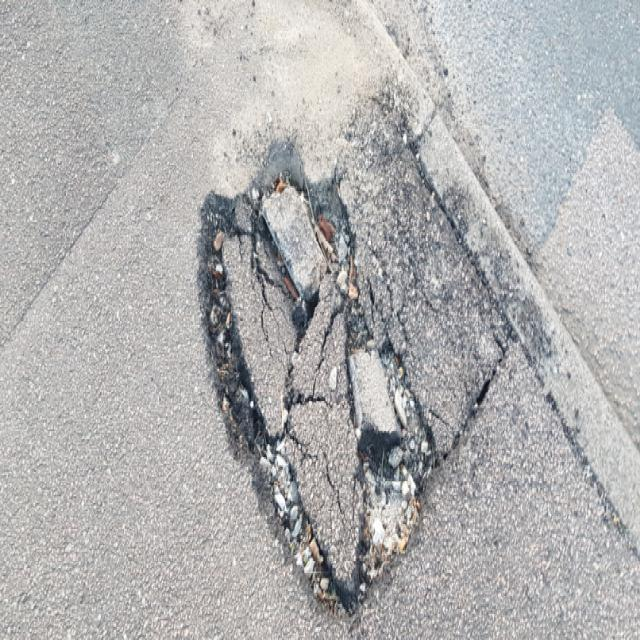Pothole: (195, 97, 514, 623)
